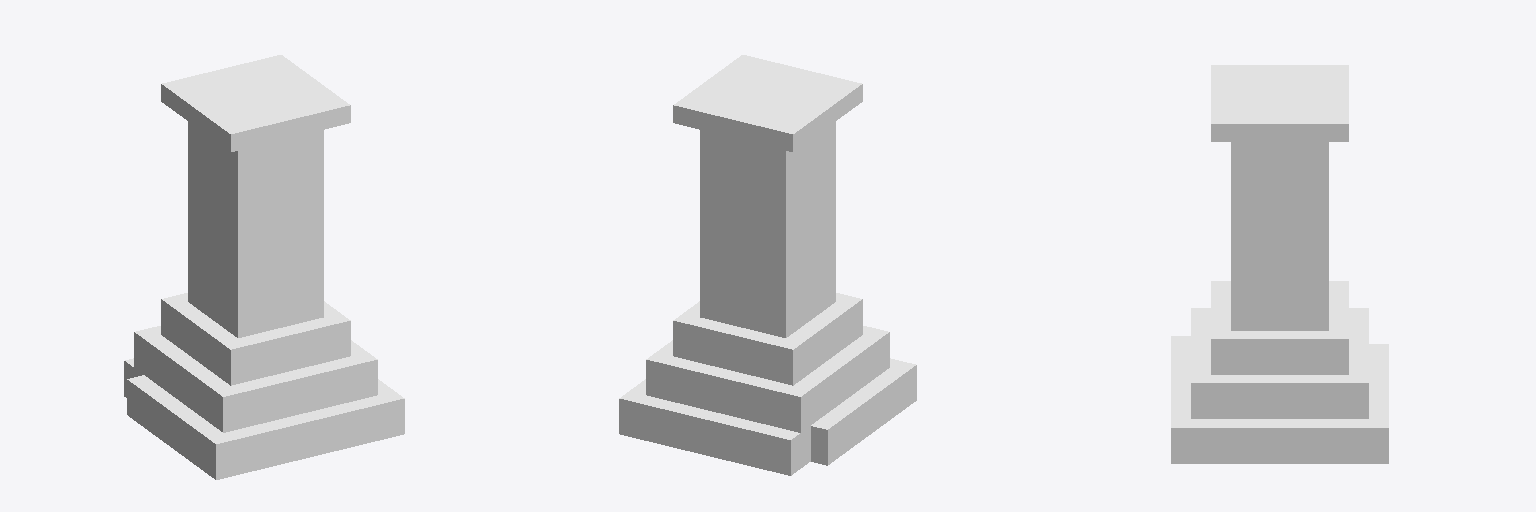
Rendered from BigPillar.obj.
3 views of the same model, side by side, from view 1: azimuth 30°, elevation 25°; view 2: azimuth 150°, elevation 25°; view 3: azimuth 270°, elevation 25° (orthographic).
Bounding box in the file's own units: 11 × 18 × 11.